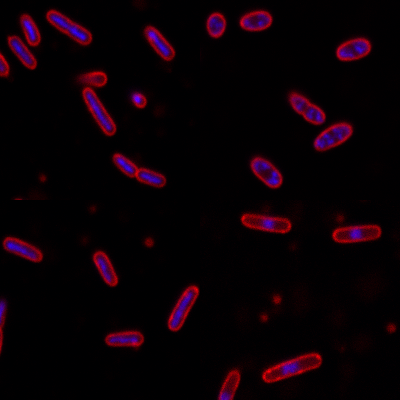MP265: (312, 121, 353, 152), (247, 155, 283, 190), (335, 36, 371, 63), (238, 10, 274, 32), (204, 11, 227, 38)
Nalidixate: (259, 351, 322, 385), (239, 212, 293, 234), (330, 223, 383, 243)
Oblique: (285, 88, 326, 127), (70, 71, 109, 88), (124, 88, 148, 110)
Rifampicin: (79, 86, 119, 137), (111, 152, 166, 188), (45, 7, 93, 46), (165, 283, 200, 333), (141, 24, 177, 62), (4, 35, 38, 71), (1, 236, 43, 263), (91, 250, 119, 287), (102, 329, 145, 348), (18, 13, 41, 45)
Vesicle: (383, 321, 398, 336), (269, 292, 282, 306), (142, 236, 156, 248), (256, 312, 269, 324), (37, 171, 48, 184)
